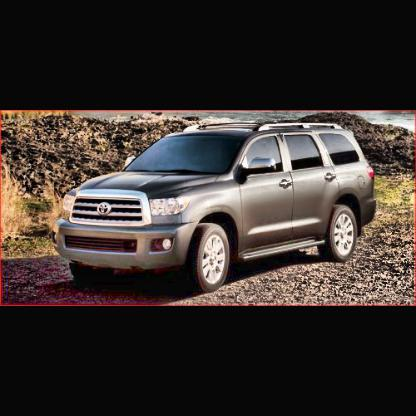Toyota Sequoia SUV 2012: (58, 124, 375, 295)
